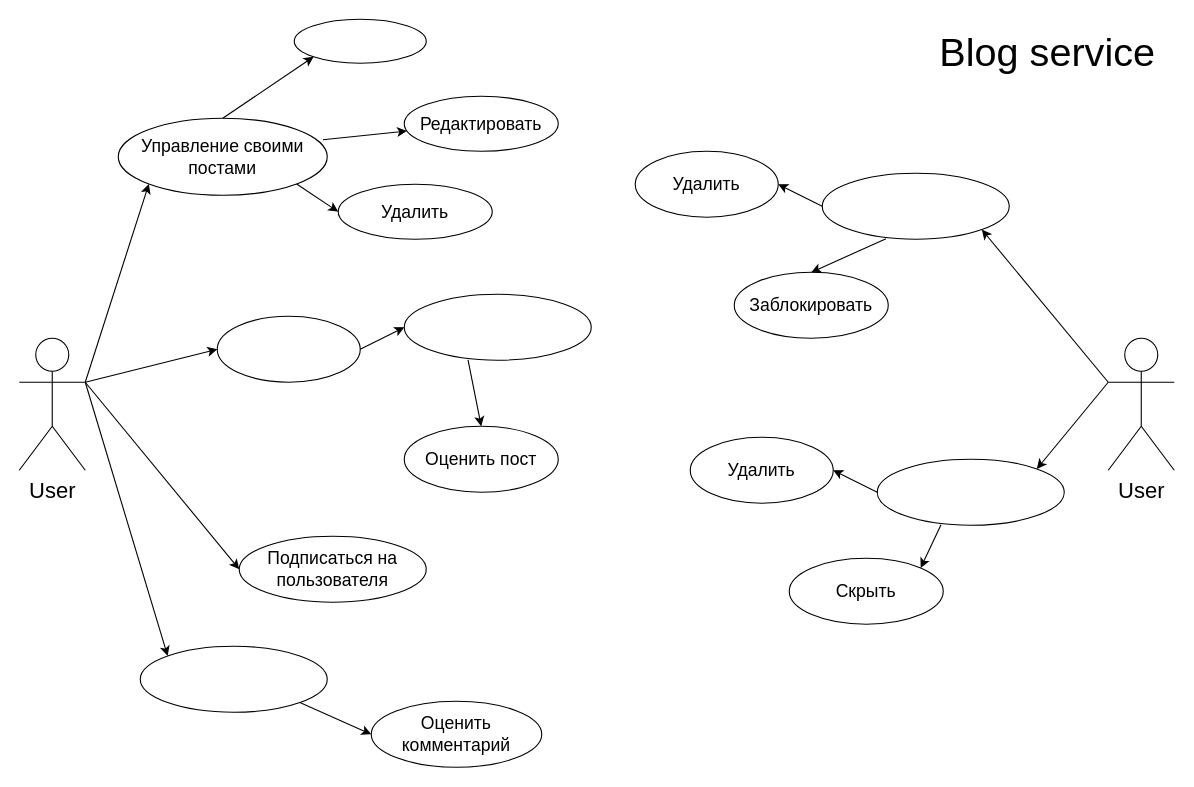
Some shapes in this 1194 by 787 pixel diagram are drawn without their labels. Each missing label, with the centre of its shape:
"Написать комментарий" belongs at (233,678).
"Просмотреть ленту" belongs at (288,348).
"Просмотреть пост" belongs at (497,326).
"Создать" belongs at (359,40).
"Управление всеми постами" belongs at (970,491).
"Управление пользователями" belongs at (915,205).
